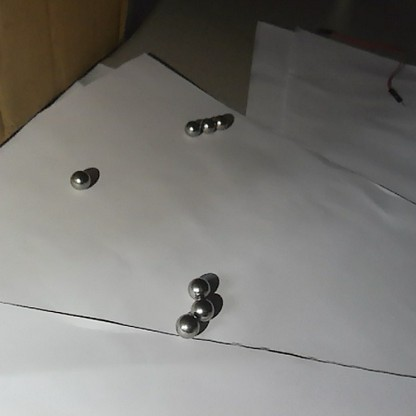ironball: (190, 299, 216, 324), (173, 313, 199, 336), (69, 165, 89, 191), (187, 276, 211, 297), (212, 110, 230, 130), (199, 114, 214, 135), (182, 118, 197, 137)
